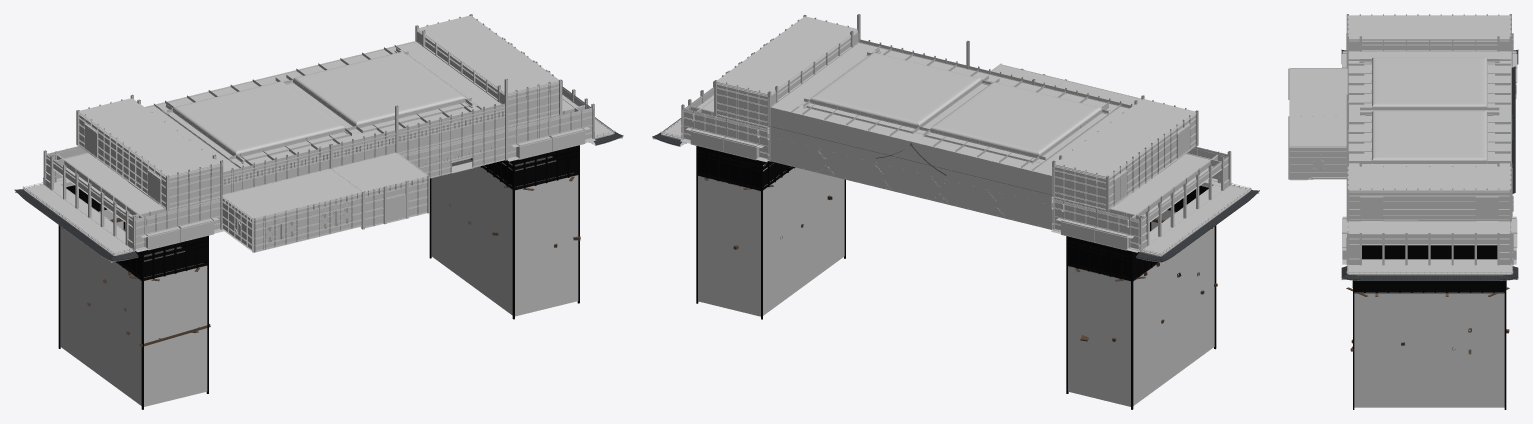
3 renders of one model, left to right at view 1: azimuth 30°, elevation 25°; view 2: azimuth 150°, elevation 25°; view 3: azimuth 270°, elevation 25°, orthographic. The views are drawn at different scales.
Visible parts, largest first — view 1: L2A5_1F_SideRoom_Holed_L_001, L2A5_1F_SideRoom_Holed_R_001, L2A5_1F_GardenCeiling_003, L2A5_1F_GardenCeiling_001, L2A5_1F_GardenWall_001, L2A5_1F_SideRoom_Holed_L_014, L2A5_1F_SideRoom_Holed_R_002, L2A5_1F_GardenCeiling_005, L2A5_1F_MiscRoom_002, L2A5_1F_SideRoom_Holed_L_004, L2A5_1F_MiscRoom_004, L2A5_1F_SideRoom_Holed_L_012 (+15 smaller); view 2: L2A5_1F_SideRoom_Holed_L_001, L2A5_1F_SideRoom_Holed_R_001, L2A5_1F_GardenWall_002, L2A5_1F_GardenCeiling_003, L2A5_1F_GardenCeiling_001, L2A5_1F_SideRoom_Holed_L_014, L2A5_1F_SideRoom_Holed_R_002, L2A5_1F_GardenCeiling_004, L2A5_1F_SideRoom_Holed_L_004, L2A5_1F_SideRoom_Holed_L_006, L2A5_1F_SideRoom_Holed_L_008, L2A5_1F_SideRoom_Holed_R_012 (+10 smaller); view 3: L2A5_1F_SideRoom_Holed_R_001, L2A5_1F_GardenCeiling_001, L2A5_1F_GardenCeiling_003, L2A5_1F_SideRoom_Holed_R_015, L2A5_1F_SideRoom_Holed_R_002, L2A5_1F_SideRoom_Holed_L_014, L2A5_1F_SideRoom_Holed_R_007, L2A5_1F_SideRoom_Holed_R_008, L2A5_1F_MiscRoom_004, L2A5_1F_SideRoom_Holed_R_005, L2A5_1F_GardenCeiling_004, L2A5_1F_GardenCeiling_005 (+10 smaller).
Boxes of the visible parts, left/top/right/bottom form: L2A5_1F_SideRoom_Holed_L_001: left=58, top=185, right=208, bottom=409; L2A5_1F_SideRoom_Holed_R_001: left=429, top=145, right=579, bottom=319; L2A5_1F_GardenCeiling_003: left=290, top=42, right=501, bottom=130; L2A5_1F_GardenCeiling_001: left=146, top=81, right=348, bottom=172; L2A5_1F_GardenWall_001: left=398, top=103, right=504, bottom=178; L2A5_1F_SideRoom_Holed_L_014: left=80, top=98, right=219, bottom=175; L2A5_1F_SideRoom_Holed_R_002: left=419, top=16, right=558, bottom=93; L2A5_1F_GardenCeiling_005: left=223, top=97, right=505, bottom=176; L2A5_1F_MiscRoom_002: left=253, top=191, right=362, bottom=252; L2A5_1F_SideRoom_Holed_L_004: left=76, top=110, right=169, bottom=210; L2A5_1F_MiscRoom_004: left=223, top=169, right=361, bottom=217; L2A5_1F_SideRoom_Holed_L_012: left=132, top=198, right=222, bottom=250; L2A5_1F_SideRoom_Holed_L_001: left=1066, top=185, right=1216, bottom=409; L2A5_1F_SideRoom_Holed_R_001: left=696, top=146, right=845, bottom=319; L2A5_1F_GardenWall_002: left=770, top=107, right=1051, bottom=229; L2A5_1F_GardenCeiling_003: left=771, top=43, right=985, bottom=131; L2A5_1F_GardenCeiling_001: left=927, top=82, right=1128, bottom=175; L2A5_1F_SideRoom_Holed_L_014: left=1055, top=99, right=1194, bottom=176; L2A5_1F_SideRoom_Holed_R_002: left=717, top=17, right=856, bottom=93; L2A5_1F_GardenCeiling_004: left=770, top=98, right=1051, bottom=177; L2A5_1F_SideRoom_Holed_L_004: left=1106, top=110, right=1198, bottom=211; L2A5_1F_SideRoom_Holed_L_006: left=1052, top=199, right=1142, bottom=250; L2A5_1F_SideRoom_Holed_L_008: left=1136, top=183, right=1259, bottom=263; L2A5_1F_SideRoom_Holed_R_012: left=681, top=104, right=767, bottom=160; L2A5_1F_SideRoom_Holed_R_001: left=1352, top=245, right=1506, bottom=409; L2A5_1F_GardenCeiling_001: left=1348, top=51, right=1511, bottom=110; L2A5_1F_GardenCeiling_003: left=1359, top=111, right=1499, bottom=166; L2A5_1F_SideRoom_Holed_R_015: left=1346, top=188, right=1511, bottom=221; L2A5_1F_SideRoom_Holed_R_002: left=1348, top=166, right=1510, bottom=189; L2A5_1F_SideRoom_Holed_L_014: left=1348, top=15, right=1510, bottom=38; L2A5_1F_SideRoom_Holed_R_007: left=1348, top=204, right=1513, bottom=244; L2A5_1F_SideRoom_Holed_R_008: left=1341, top=263, right=1518, bottom=280; L2A5_1F_MiscRoom_004: left=1290, top=68, right=1346, bottom=116; L2A5_1F_SideRoom_Holed_R_005: left=1346, top=233, right=1513, bottom=265; L2A5_1F_GardenCeiling_004: left=1486, top=51, right=1511, bottom=166; L2A5_1F_GardenCeiling_005: left=1348, top=58, right=1372, bottom=166.
Size of the model in its own units: 18734 by 7989 by 8539.
